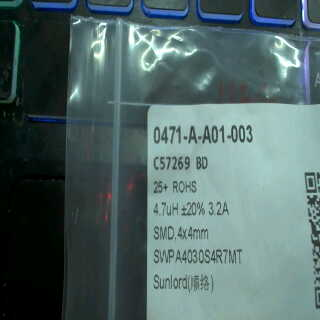4.7uH: (152, 198, 181, 217)
